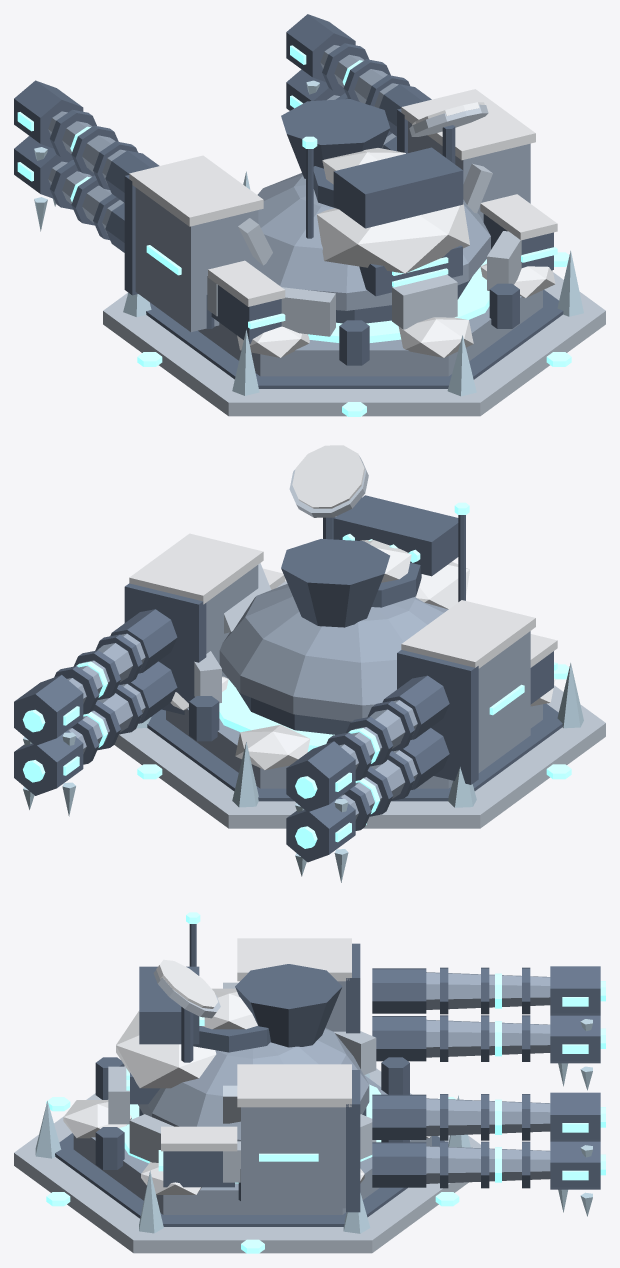
Rendered from turret_lvl7.fbx.
The picture shows the model from 3 angles, top to bottom: view 1: azimuth 30°, elevation 25°; view 2: azimuth 150°, elevation 25°; view 3: azimuth 270°, elevation 25°; orthographic projection. The views are drawn at different scales.
Parts seen in each view (by area): view 1: BaseTier_81, Dome_05, PodBody_07, MissileRack_98, Base_01, SnowBlanket_103, BaseSkirt_02, SnowPod_120, CentreSensor_61, SnowPod_121, PodBody_34, SkirtPlate_96 (+41 smaller); view 2: Dome_05, BaseTier_81, CentreSensor_61, MissileRack_98, SnowPod_121, SnowPod_120, PodPlate_08, PodBody_07, BaseSkirt_02, PodPlate_35, SnowDish_119, MuzzleBrake_55 (+39 smaller); view 3: BaseTier_81, PodBody_34, Dome_05, CentreSensor_61, SnowPod_121, Base_01, BaseSkirt_02, SnowPod_120, SnowBlanket_103, BarrelTube_38, BarrelTube_23, BarrelTube_50 (+37 smaller).
Boxes of the visible parts, x1,y1,x2,y2 form: BaseTier_81: (103, 272, 605, 416); Dome_05: (248, 173, 490, 310); PodBody_07: (135, 187, 258, 332); MissileRack_98: (333, 147, 463, 228); Base_01: (198, 290, 542, 376); SnowBlanket_103: (317, 202, 469, 273); BaseSkirt_02: (146, 290, 563, 388); SnowPod_120: (129, 155, 263, 226); CentreSensor_61: (281, 99, 390, 178); SnowPod_121: (401, 89, 535, 160); PodBody_34: (408, 121, 530, 221); SkirtPlate_96: (392, 274, 457, 329); Dome_05: (219, 584, 448, 721); BaseTier_81: (114, 685, 605, 828); CentreSensor_61: (281, 539, 389, 627); MissileRack_98: (333, 495, 458, 576); SnowPod_121: (129, 533, 263, 604); SnowPod_120: (401, 600, 535, 668); PodPlate_08: (397, 650, 478, 784); PodBody_07: (478, 631, 530, 772); BaseSkirt_02: (147, 703, 562, 801); PodPlate_35: (124, 583, 206, 714); SnowDish_119: (292, 445, 364, 508); MuzzleBrake_55: (14, 675, 83, 745); BaseTier_81: (14, 1068, 480, 1253); PodBody_34: (241, 1107, 345, 1208); Dome_05: (138, 1028, 369, 1141); CentreSensor_61: (235, 964, 342, 1047); SnowPod_121: (237, 1064, 351, 1107); Base_01: (73, 1075, 431, 1214); BaseSkirt_02: (55, 1133, 444, 1226); SnowPod_120: (237, 938, 351, 981); SnowBlanket_103: (116, 1010, 216, 1088); BarrelTube_38: (426, 1146, 550, 1183); BarrelTube_23: (426, 972, 550, 1009); BarrelTube_50: (426, 1098, 550, 1136).
Bounding box in the file's own units: 590 × 317 × 743.
